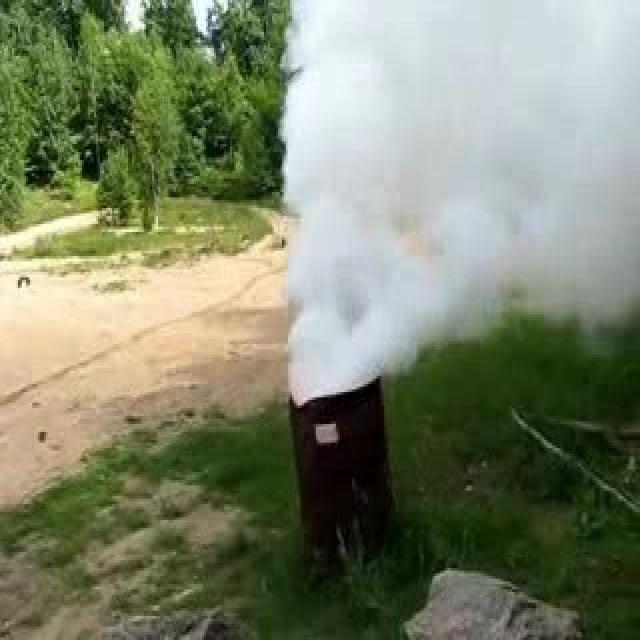Smoke: (274, 0, 640, 411)
